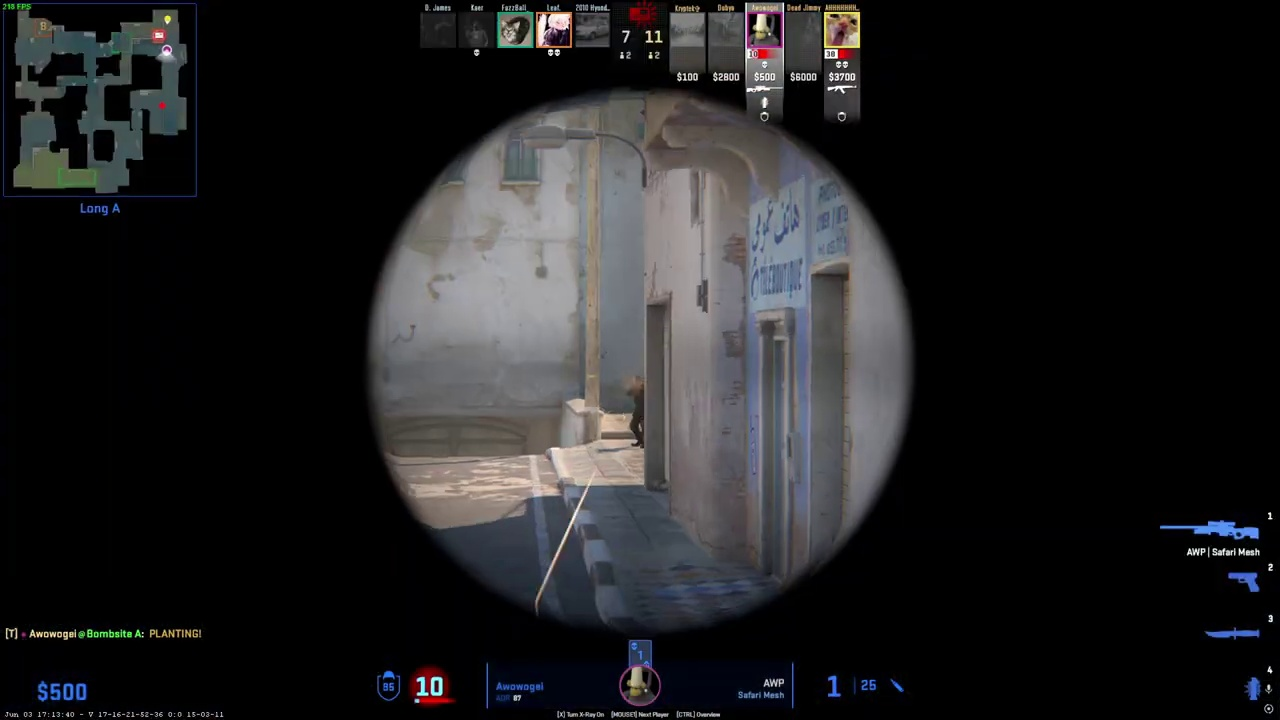CT: (629, 376, 646, 449)
